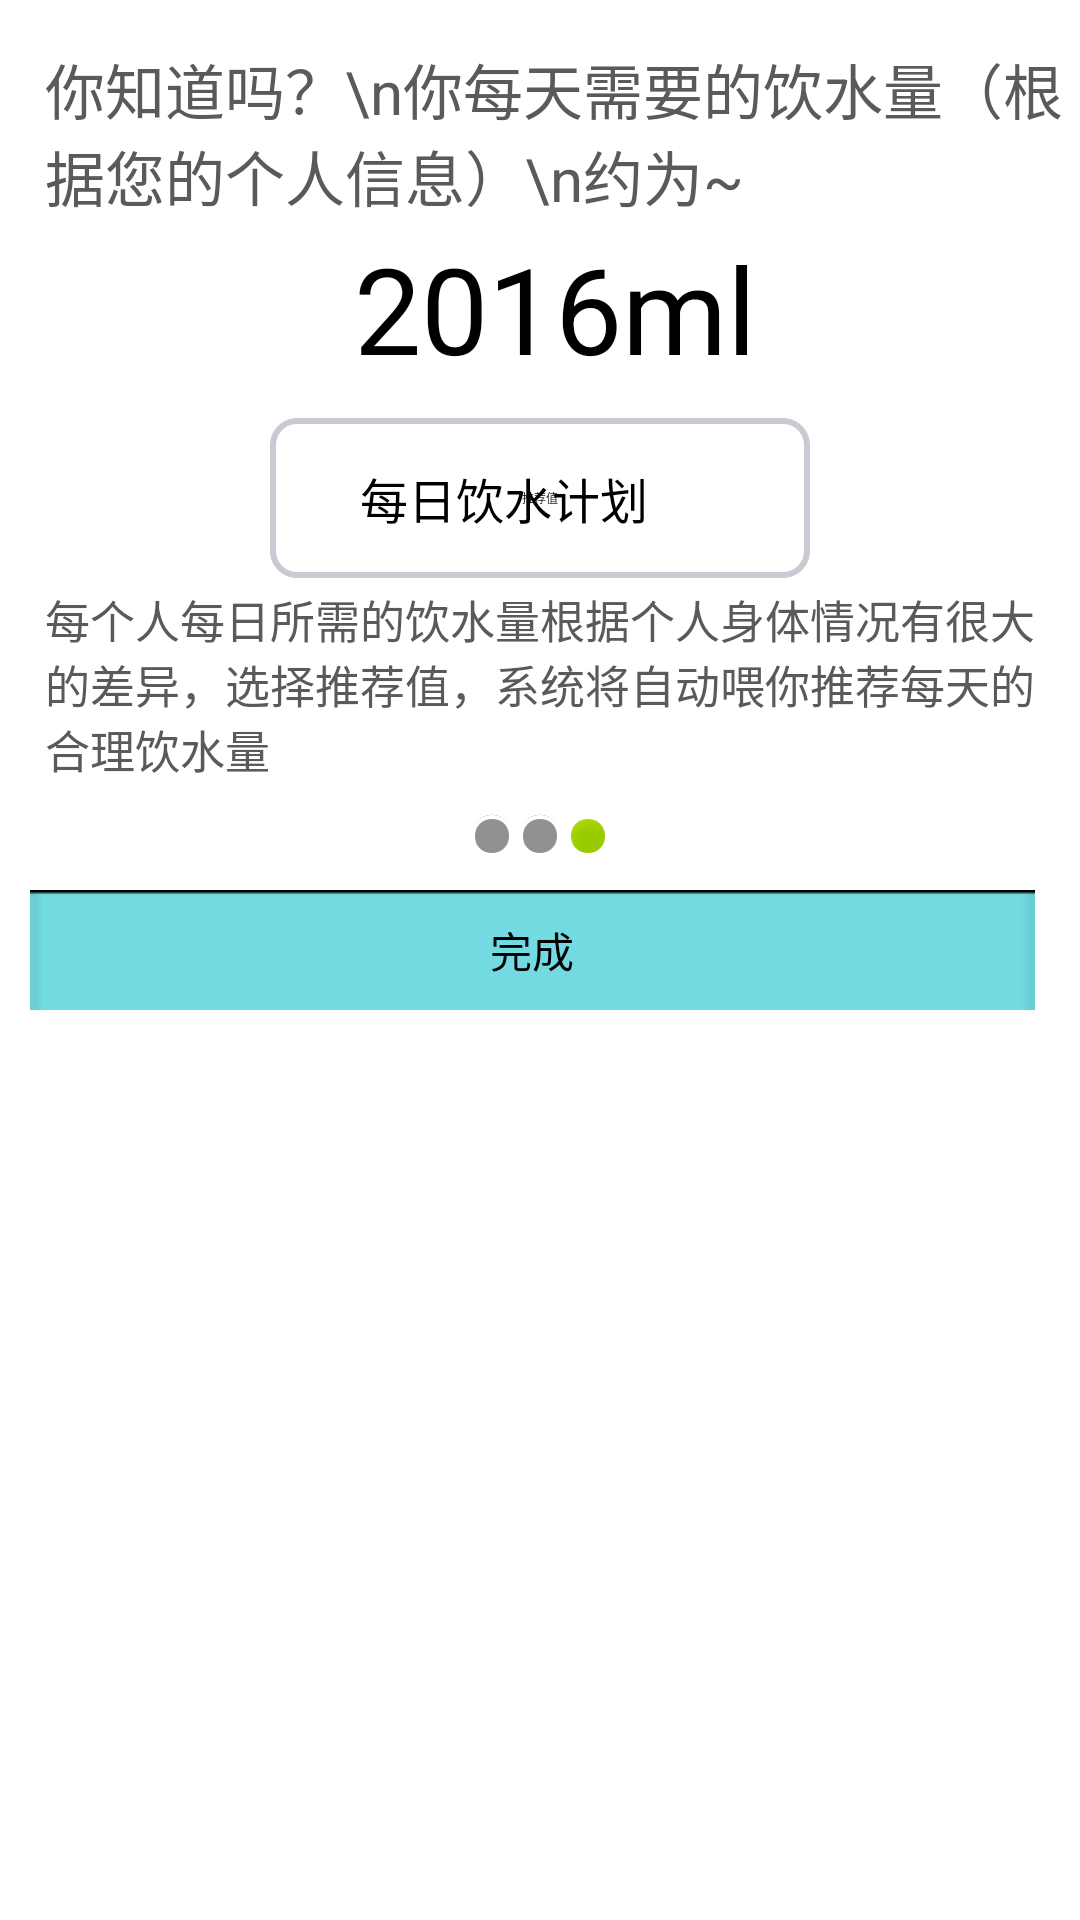

Named icons in this screenshot (1080px×1920px) and their bounding boxes, (x1, y1, x2, y2):
presence invisible: (475, 815, 509, 853), (523, 815, 557, 853)
presence online: (571, 819, 605, 853)
